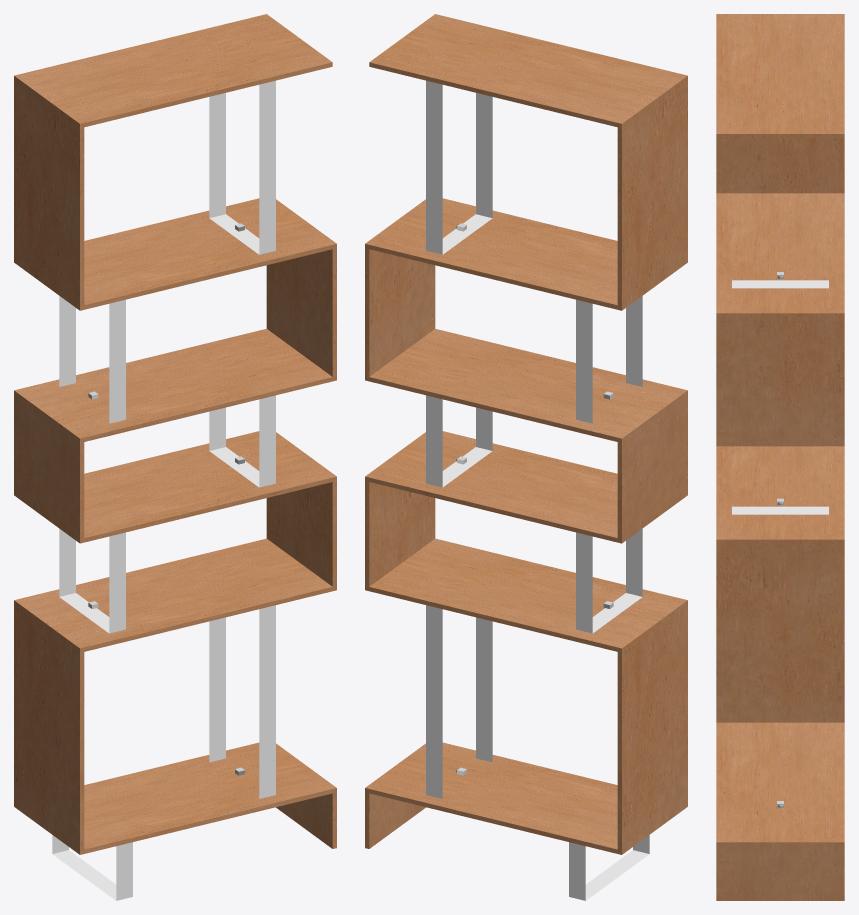
Rendered from bookshelf_01.glb.
3 views of the same model, side by side, from view 1: azimuth 30°, elevation 25°; view 2: azimuth 150°, elevation 25°; view 3: azimuth 270°, elevation 25° (orthographic). The views are drawn at different scales.
Parts seen in each view (by area): view 1: Cube.001; view 2: Cube.001; view 3: Cube.001.
Part boxes in pixels (left/top/right/bottom): Cube.001: left=14, top=14, right=336, bottom=900; Cube.001: left=365, top=14, right=687, bottom=900; Cube.001: left=716, top=14, right=844, bottom=900.
Bounding box in the file's own units: 0.6101 × 1.79 × 0.2716.
Materials: 3 (2 with a texture image).
